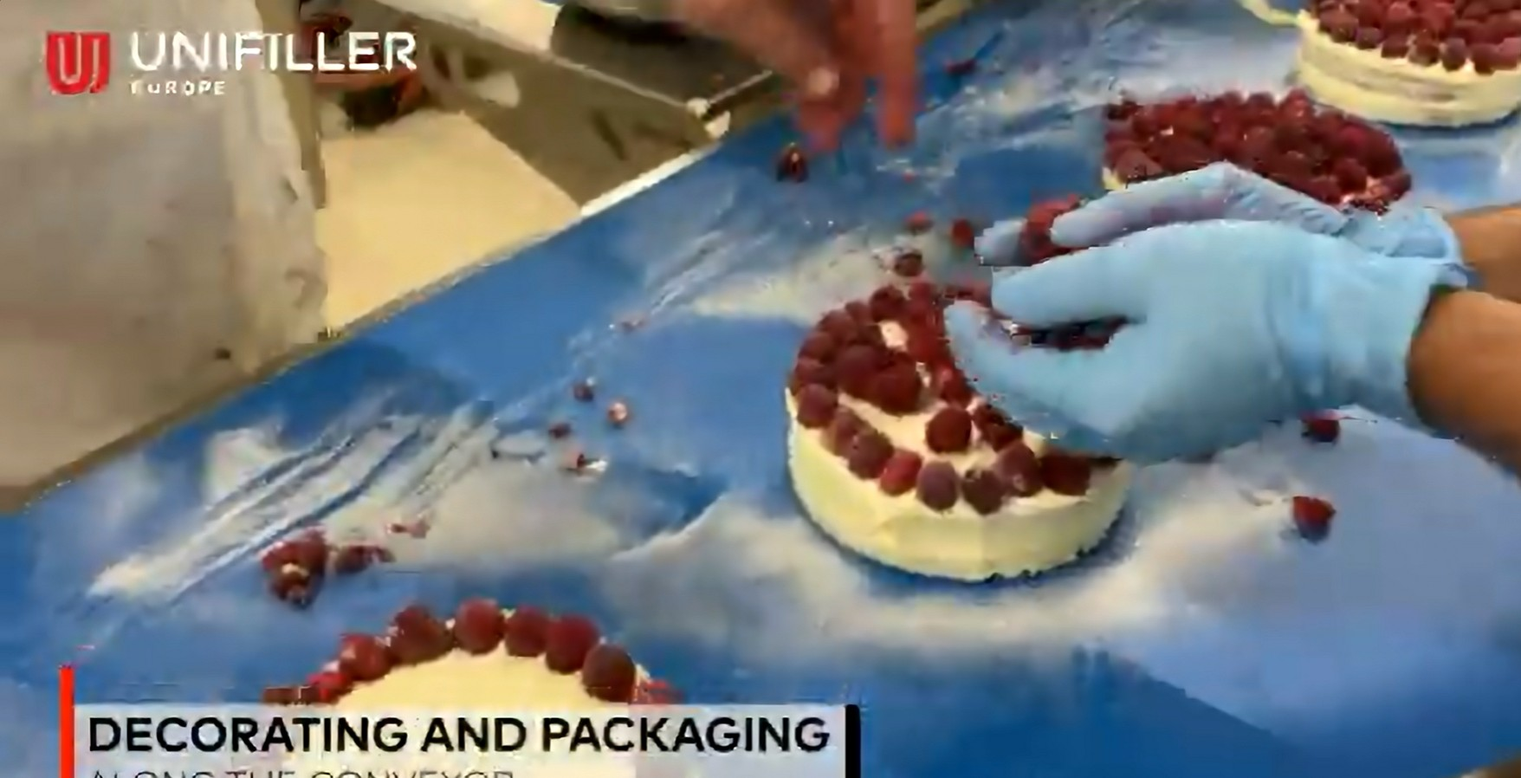Jam Coated: (792, 299, 1133, 584), (251, 600, 688, 712), (1096, 76, 1407, 220), (1286, 0, 1518, 128)
